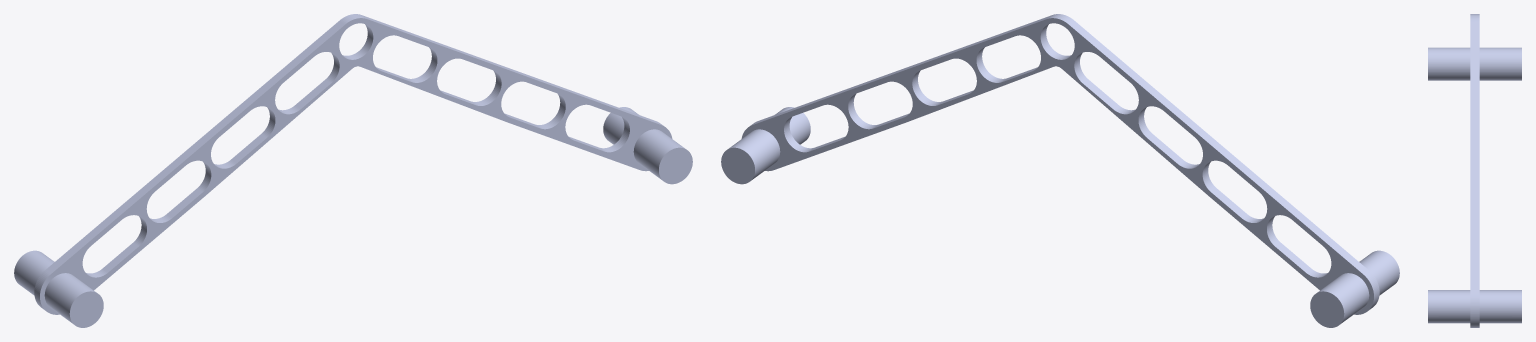
The model's file is Pata3.dae.
The picture shows the model from 3 angles, left to right: view 1: azimuth 30°, elevation 25°; view 2: azimuth 150°, elevation 25°; view 3: azimuth 270°, elevation 25°; orthographic projection. The views are drawn at different scales.
Visible parts, largest first — view 1: 5eb498719224e0139b2b55ab; view 2: 5eb498719224e0139b2b55ab; view 3: 5eb498719224e0139b2b55ab.
Boxes of the visible parts, x1,y1,x2,y2 form: 5eb498719224e0139b2b55ab: (14,14,692,327); 5eb498719224e0139b2b55ab: (721,14,1399,327); 5eb498719224e0139b2b55ab: (1428,14,1521,327).
Bounding box in the file's own units: 0.8269 × 0.126 × 0.2794.
